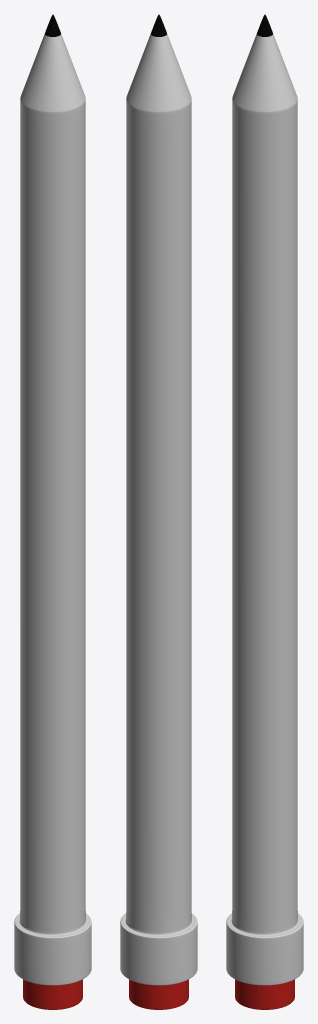
File: Pencil.fbx
3 renders of one model, left to right at view 1: azimuth 90°, elevation 25°; view 2: azimuth 210°, elevation 25°; view 3: azimuth 270°, elevation 25°, orthographic.
Parts seen in each view (by area): view 1: Pencil; view 2: Pencil; view 3: Pencil.
Part boxes in pixels (x1=…): Pencil: x1=14, y1=14, x2=91, y2=1009; Pencil: x1=120, y1=14, x2=197, y2=1009; Pencil: x1=226, y1=14, x2=303, y2=1009.
Size of the model in its own units: 1.12 by 15.76 by 1.12.
